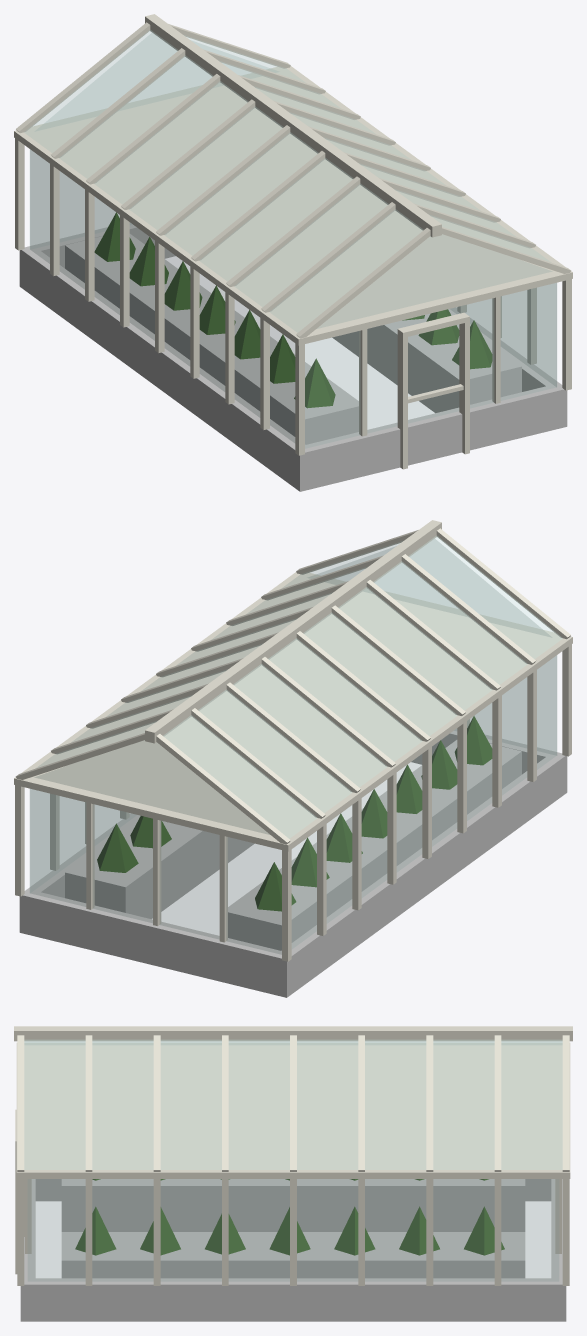
Rendered from greenhouse.gltf.
The picture shows the model from 3 angles, top to bottom: view 1: azimuth 30°, elevation 25°; view 2: azimuth 150°, elevation 25°; view 3: azimuth 270°, elevation 25°; orthographic projection. The views are drawn at different scales.
Parts seen in each view (by area): view 1: Glass.005, Plate.047, Base.003, Base.001, Bench.053, Bench.061, RidgeBar.048, Base.004, Rafter.039, Rafter.011, Rafter.019, Rafter.031 (+40 smaller); view 2: Glass.005, Plate.047, Base.003, Base.002, Bench.053, Bench.061, RidgeBar.048, Base.004, Rafter.007, Rafter.015, Rafter.027, Rafter.035 (+38 smaller); view 3: Glass.005, Plate.047, Base.004, Bench.053, Bench.061, RidgeBar.048, Base.002, Base.001, Base.003, Rafter.009, Rafter.013, Rafter.017 (+25 smaller).
Boxes of the visible parts, box(x1,y1,x2,y2) form: Glass.005: box(24, 30, 556, 448); Plate.047: box(14, 66, 572, 345); Base.003: box(19, 249, 312, 491); Base.001: box(292, 383, 567, 491); Bench.053: box(65, 234, 358, 444); Bench.061: box(332, 313, 521, 413); RidgeBar.048: box(145, 14, 441, 237); Base.004: box(448, 307, 566, 429); Rafter.039: box(16, 22, 150, 133); Rafter.011: box(261, 202, 395, 312); Rafter.019: box(191, 151, 325, 261); Rafter.031: box(86, 74, 220, 184); Glass.005: box(30, 536, 562, 954); Plate.047: box(14, 572, 572, 851); Base.003: box(273, 751, 567, 997); Base.002: box(19, 889, 294, 997); Bench.053: box(228, 740, 521, 950); Bench.061: box(65, 818, 254, 919); RidgeBar.048: box(145, 520, 441, 743); Base.004: box(19, 813, 140, 935); Rafter.007: box(436, 528, 570, 639); Rafter.015: box(366, 580, 500, 690); Rafter.027: box(261, 657, 395, 767); Rafter.035: box(191, 708, 325, 818); Glass.005: box(24, 1040, 562, 1281); Plate.047: box(16, 1042, 570, 1178); Base.004: box(20, 1278, 566, 1321); Bench.053: box(61, 1179, 525, 1231); Bench.061: box(61, 1232, 525, 1278); RidgeBar.048: box(14, 1026, 572, 1041); Base.002: box(551, 1179, 566, 1321); Base.001: box(20, 1179, 35, 1321); Base.003: box(35, 1179, 551, 1201); Rafter.009: box(17, 1035, 24, 1171); Rafter.013: box(85, 1035, 92, 1171); Rafter.017: box(153, 1035, 160, 1171).
Size of the model in its own units: 4.52 by 3.72 by 8.2.
